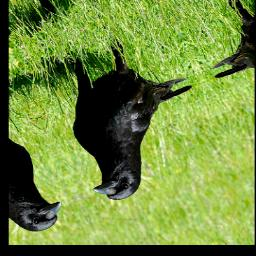Crow: (32, 20, 229, 210)
